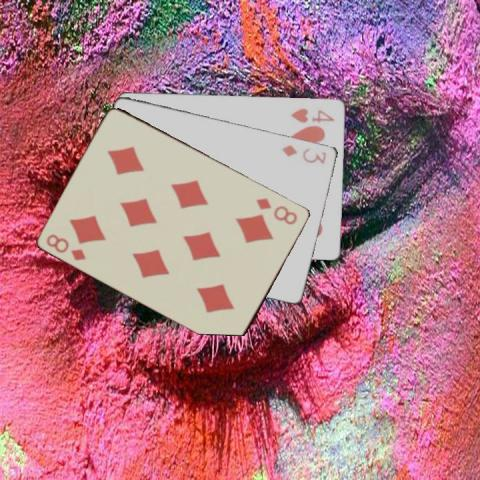3d: (279, 141, 328, 165)
4h: (288, 104, 336, 122)
8d: (253, 195, 300, 226), (43, 231, 88, 262)
